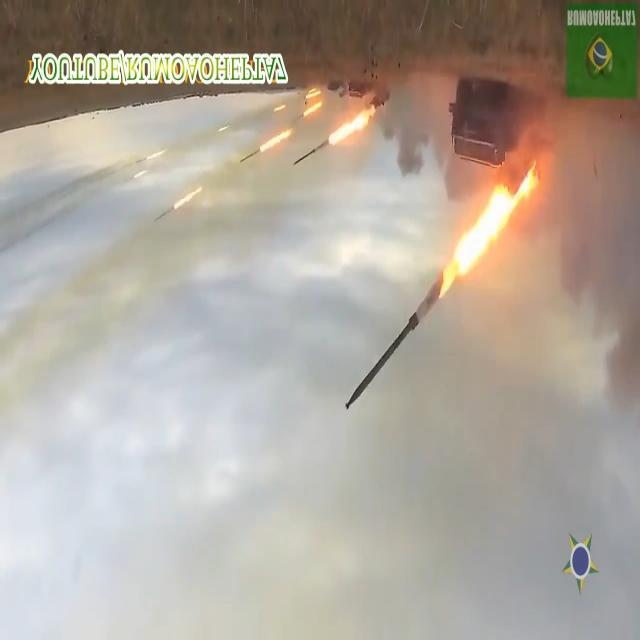missile: (339, 271, 449, 428), (292, 134, 338, 174), (234, 142, 266, 176)
